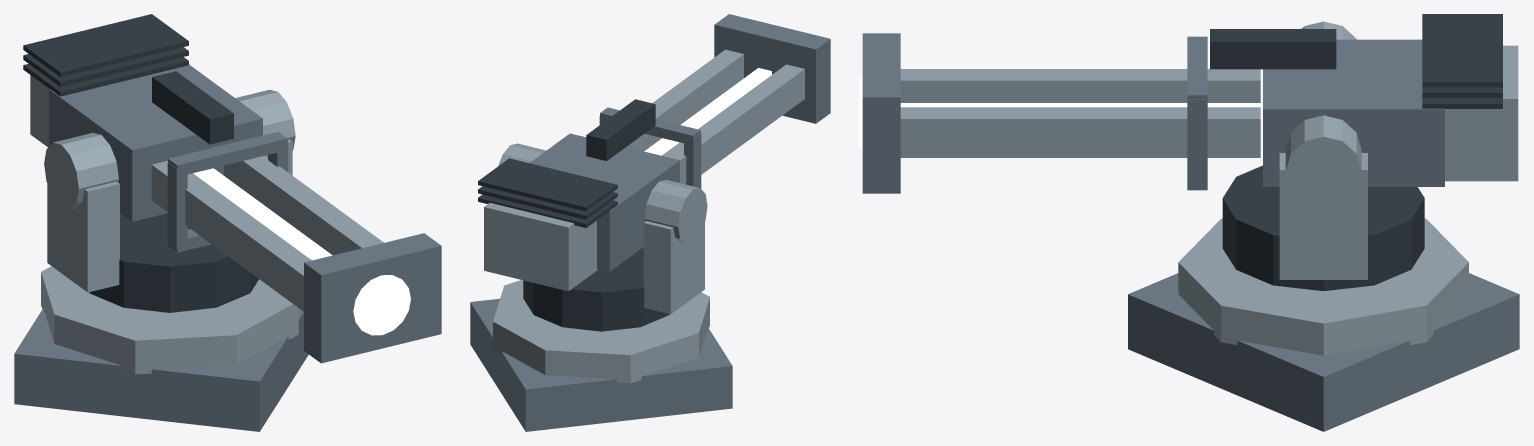
File: lancer_t1.glb
3 views of the same model, side by side, from view 1: azimuth 30°, elevation 25°; view 2: azimuth 150°, elevation 25°; view 3: azimuth 270°, elevation 25° (orthographic). The views are drawn at different scales.
Visible parts, largest first — view 1: Foundation, Base upper armor, Conductive rail (×2), Receiver, Aperture, Yaw bearing, Rear radiator (×3), Elevation fork, Trunnion (×2), Sight, Focus collar bridge (×2), Focusing lens (+3 smaller); view 2: Foundation, Base upper armor, Conductive rail (×2), Rear equipment, Receiver, Yaw bearing, Aperture, Rear radiator (×3), Elevation fork, Trunnion (×2), Sight, Optical channel (+2 smaller); view 3: Conductive rail (×2), Foundation, Base upper armor, Receiver, Yaw bearing, Elevation fork, Rear radiator (×3), Rear equipment, Aperture, Trunnion, Sight, Focus collar upright (+2 smaller).
Part boxes in pixels (left/top/right/bottom): Foundation: left=14, top=308, right=308, bottom=431; Base upper armor: left=41, top=266, right=298, bottom=374; Conductive rail (×2): left=151, top=155, right=383, bottom=311; Receiver: left=49, top=64, right=262, bottom=221; Aperture: left=304, top=233, right=441, bottom=363; Yaw bearing: left=89, top=213, right=258, bottom=312; Rear radiator (×3): left=23, top=14, right=188, bottom=96; Elevation fork: left=47, top=181, right=119, bottom=292; Trunnion (×2): left=44, top=89, right=295, bottom=209; Sight: left=152, top=71, right=233, bottom=144; Focus collar bridge (×2): left=168, top=132, right=287, bottom=252; Focusing lens: left=353, top=275, right=410, bottom=335; Foundation: left=470, top=298, right=732, bottom=431; Base upper armor: left=493, top=280, right=709, bottom=383; Conductive rail (×2): left=626, top=49, right=804, bottom=184; Rear equipment: left=484, top=203, right=598, bottom=291; Receiver: left=529, top=133, right=679, bottom=271; Yaw bearing: left=523, top=247, right=669, bottom=331; Aperture: left=714, top=14, right=830, bottom=123; Rear radiator (×3): left=478, top=158, right=617, bottom=227; Elevation fork: left=643, top=221, right=704, bottom=314; Trunnion (×2): left=498, top=143, right=707, bottom=244; Sight: left=586, top=99, right=655, bottom=160; Optical channel: left=644, top=68, right=771, bottom=155; Conductive rail (×2): left=900, top=69, right=1260, bottom=157; Foundation: left=1128, top=273, right=1519, bottom=431; Base upper armor: left=1178, top=218, right=1468, bottom=355; Receiver: left=1263, top=39, right=1444, bottom=186; Yaw bearing: left=1222, top=165, right=1424, bottom=291; Elevation fork: left=1279, top=153, right=1367, bottom=279; Rear radiator (×3): left=1422, top=14, right=1502, bottom=108; Rear equipment: left=1445, top=45, right=1518, bottom=181; Aperture: left=862, top=33, right=900, bottom=193; Trunnion: left=1285, top=115, right=1361, bottom=205; Sight: left=1210, top=29, right=1336, bottom=69; Focus collar upright: left=1187, top=99, right=1207, bottom=186.
Size of the model in its own units: 1.55 by 1.37 by 2.61.
